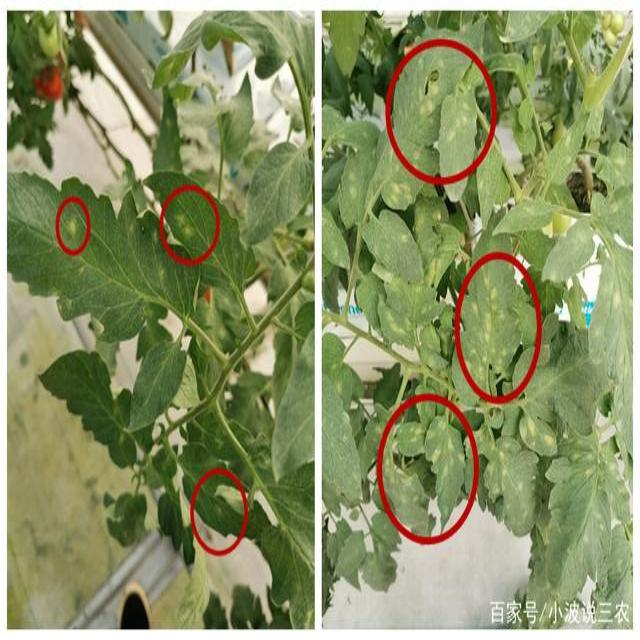Leaf_Mold: (464, 266, 519, 381), (414, 72, 476, 160), (382, 430, 420, 505), (429, 417, 465, 486), (594, 279, 632, 322), (520, 412, 556, 456), (174, 206, 198, 245), (385, 179, 416, 209), (64, 207, 85, 247), (422, 252, 442, 293)
